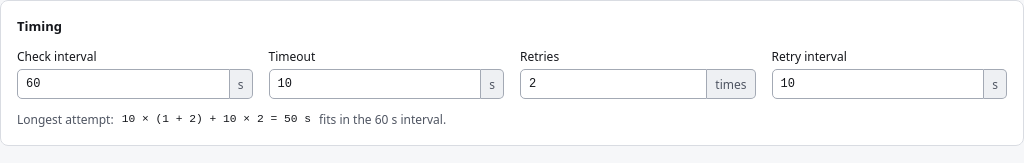
Test: TimingGroup › shows the line from the values and writes the longest attempt with the timeout alone for zero retries
This screenshot has width=1024, height=163.
Replace the text in the field labelled "Retries" with "0": (614, 84) [520, 69, 707, 99]
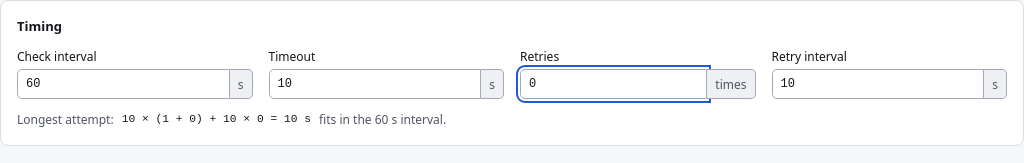
expect the element with class "timing-sum" shows "10 × (1 + 0) + 10 × 0 = 10 s fits in the 60 s interval.": met, box [17, 111, 446, 128]
